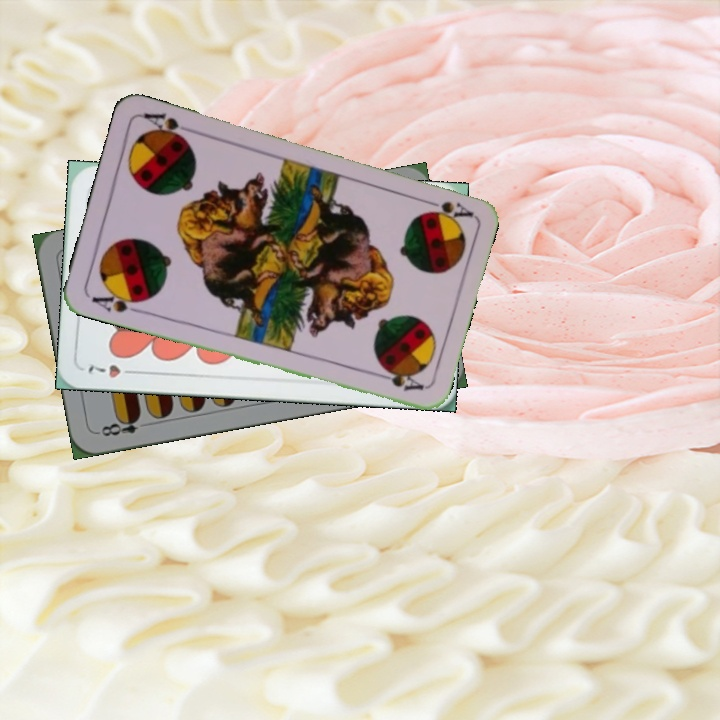E8: (94, 411, 143, 439)
H7: (84, 360, 141, 380)
SA: (87, 285, 147, 316), (416, 194, 474, 220)
